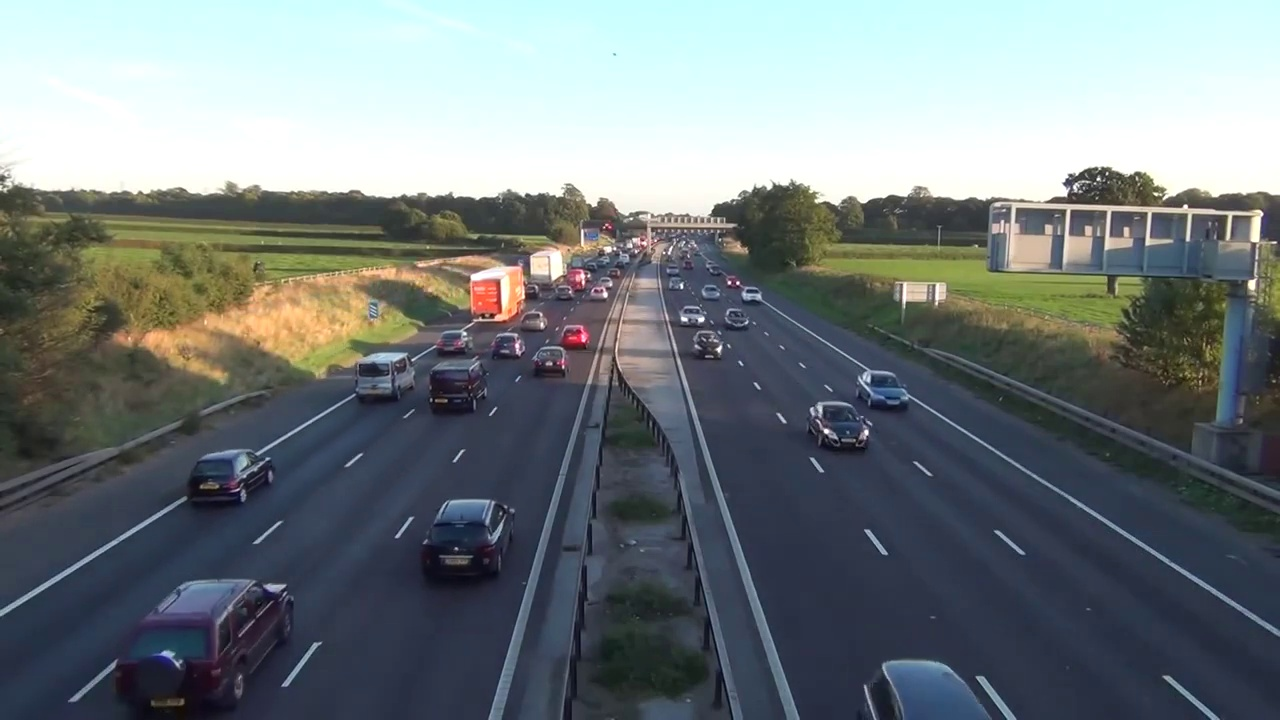bus: (117, 574, 304, 703), (420, 500, 528, 583), (853, 655, 985, 712), (181, 449, 276, 507), (805, 399, 874, 452), (854, 369, 910, 414), (533, 346, 568, 375), (691, 330, 723, 361), (491, 334, 526, 359), (436, 330, 474, 353), (562, 323, 589, 351), (677, 304, 707, 328), (723, 309, 750, 331), (739, 286, 765, 305), (519, 312, 547, 329), (700, 284, 720, 301), (590, 286, 609, 302), (725, 275, 743, 291), (526, 284, 541, 301), (555, 286, 573, 299), (663, 264, 681, 277), (669, 275, 683, 289), (599, 276, 613, 289), (710, 265, 724, 276), (608, 267, 622, 277), (583, 271, 592, 282), (683, 261, 694, 270), (584, 262, 596, 270), (563, 264, 570, 275), (705, 262, 713, 268)
car: (469, 266, 527, 326), (529, 250, 565, 294), (571, 255, 586, 271)
lorry: (427, 359, 490, 414), (353, 351, 417, 405), (567, 269, 587, 292)
